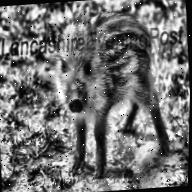boar: (42, 6, 179, 166)
